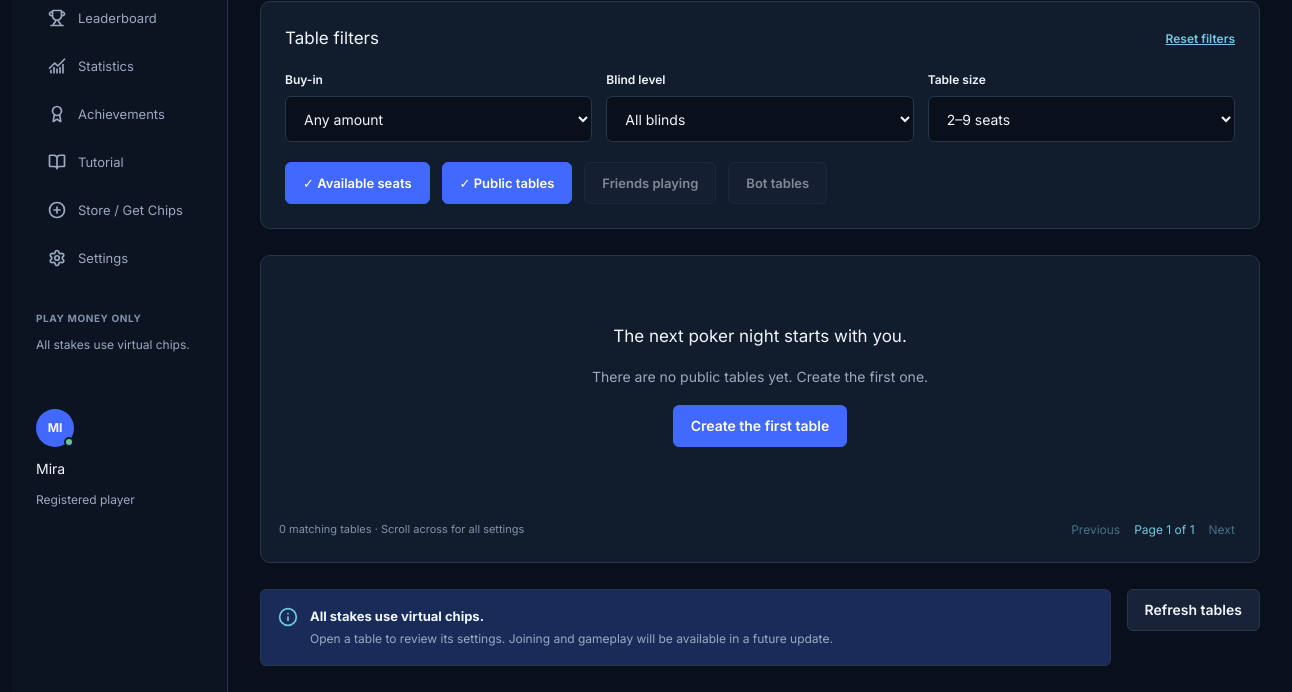
empty lobby invites creation without fake rows
The width and height of the screenshot is (1292, 692).
(page scrolled)
Expected: the heading "The next poker night starts with you." is shown, [613,324,907,349]
Click the link "Create the first table". click: (760, 426)
box: [673,405,847,447]
(page scrolled)
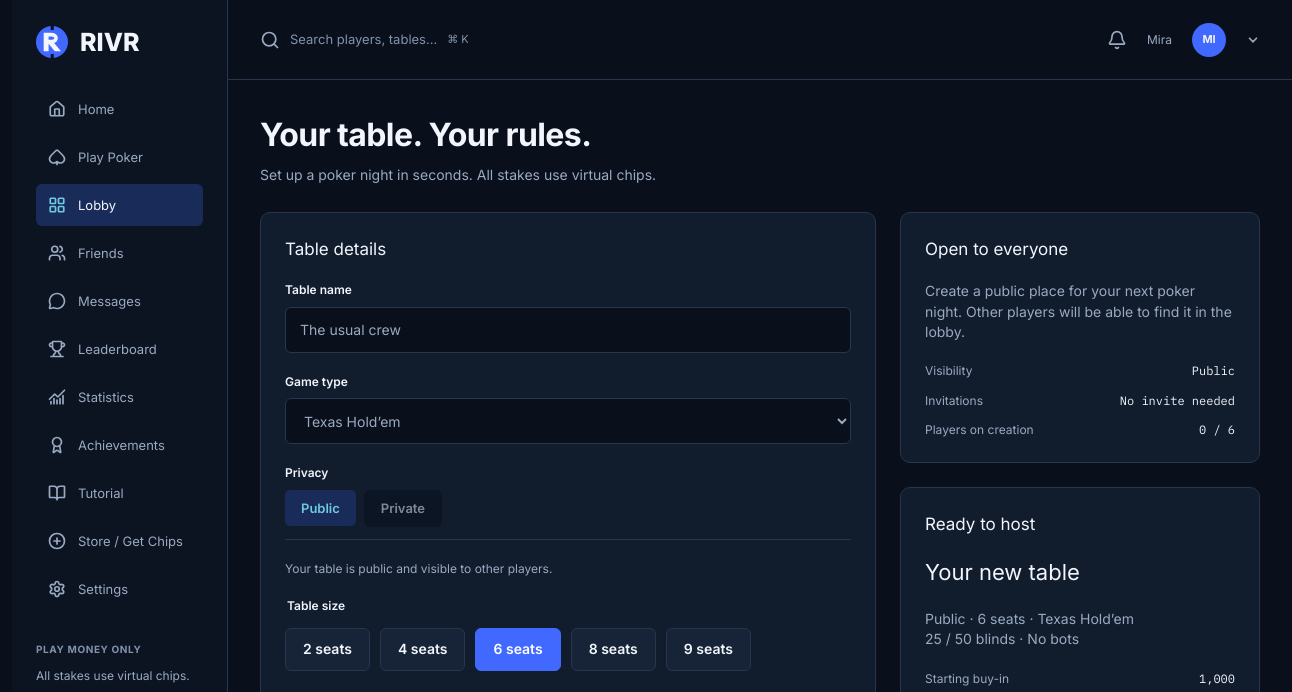
Expected: the heading "Your table. Your rules." is shown, [260,115,591,154]
